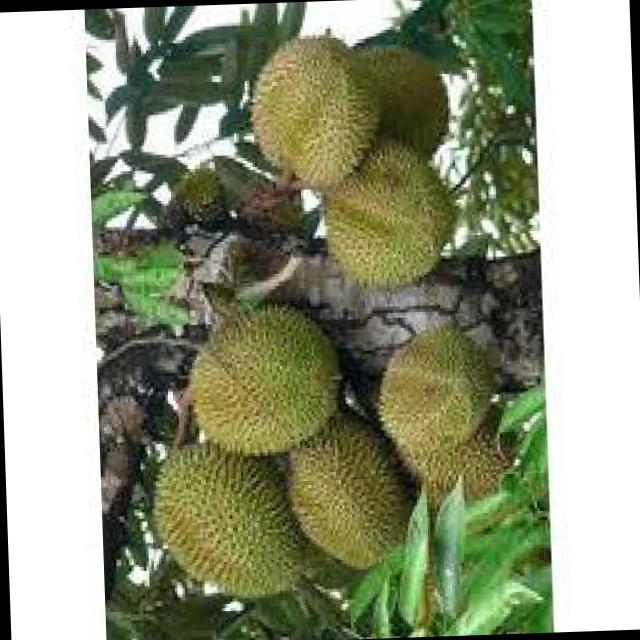fruit: (227, 11, 466, 210), (136, 422, 328, 616), (169, 286, 357, 470), (296, 124, 470, 306), (261, 399, 429, 587), (362, 314, 517, 516)
